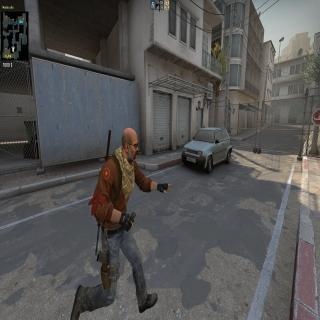T-Head: (121, 124, 140, 164)
